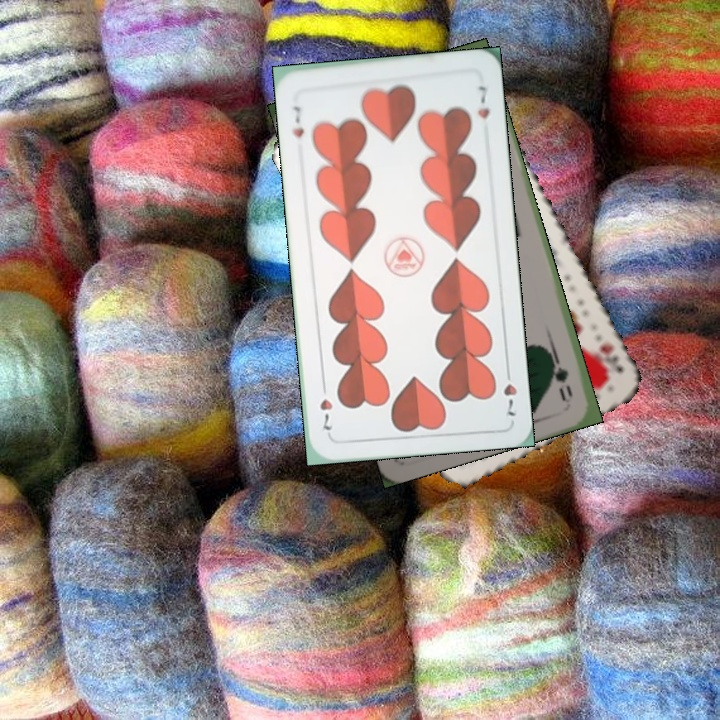GO: (545, 346, 575, 399)
H7: (499, 362, 520, 419), (289, 102, 307, 141)
HK: (595, 339, 626, 381)
